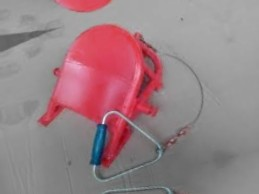chock: (18, 10, 187, 188)
